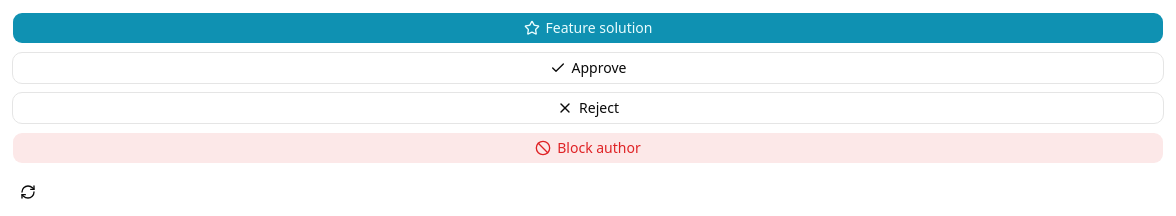
Test: solution review actions › submits Approve with the reviewed revision and advances only on success
Click the button "Approve". click: coordinates (588, 68)
box: [12,52,1164,84]
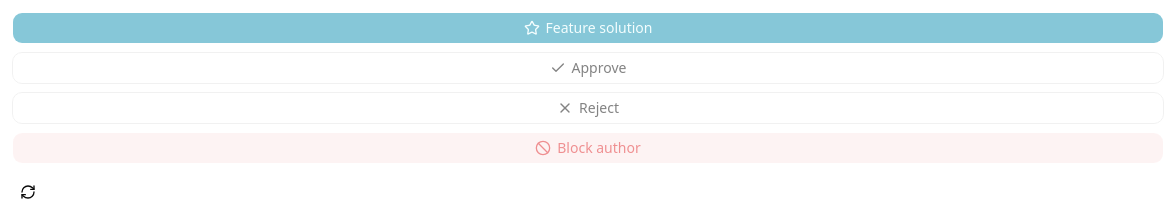
Now the button "Approve" is disabled, box [12,52,1164,84]
